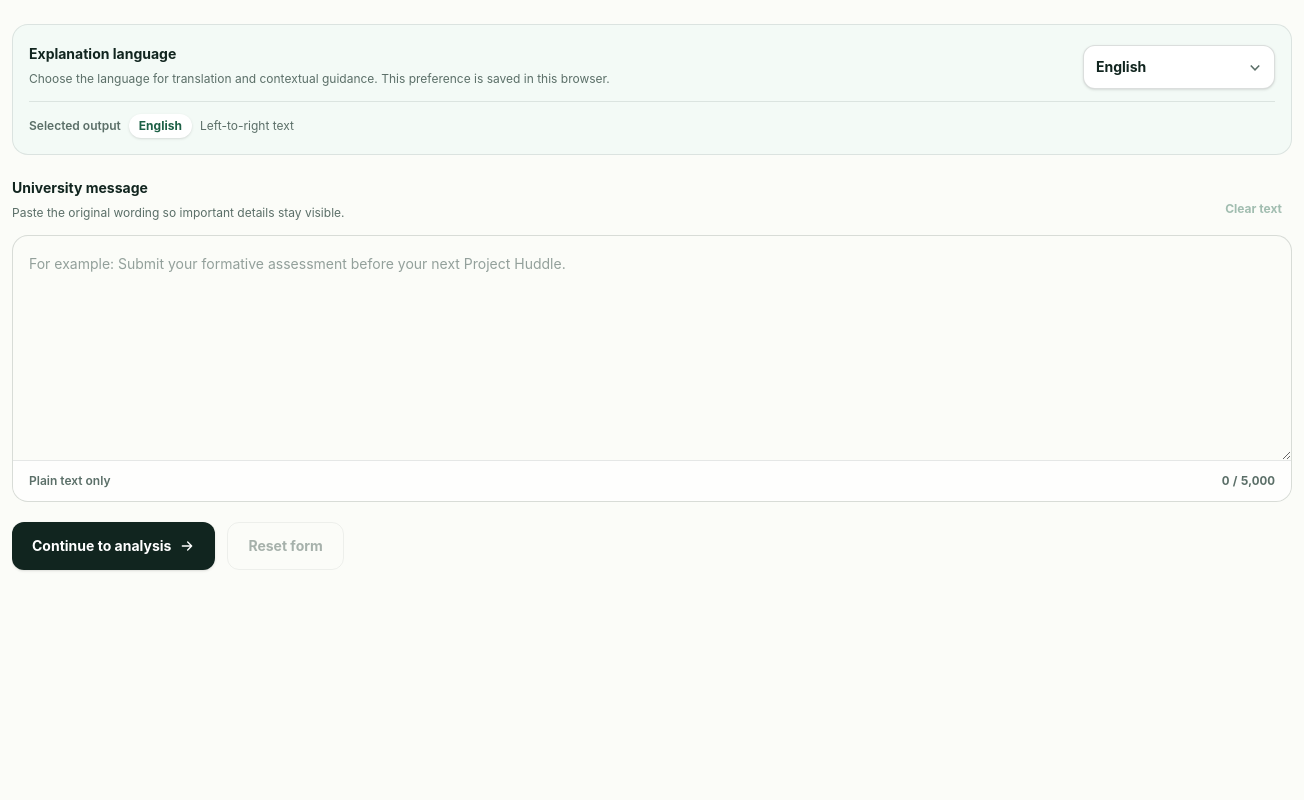
Test: MessageInputForm › resets the message and submission state
This screenshot has width=1304, height=800.
Type "Complete the task before Friday." into the text box labelled "University message" at [652, 348], box x1=13 y1=236 x2=1291 y2=460
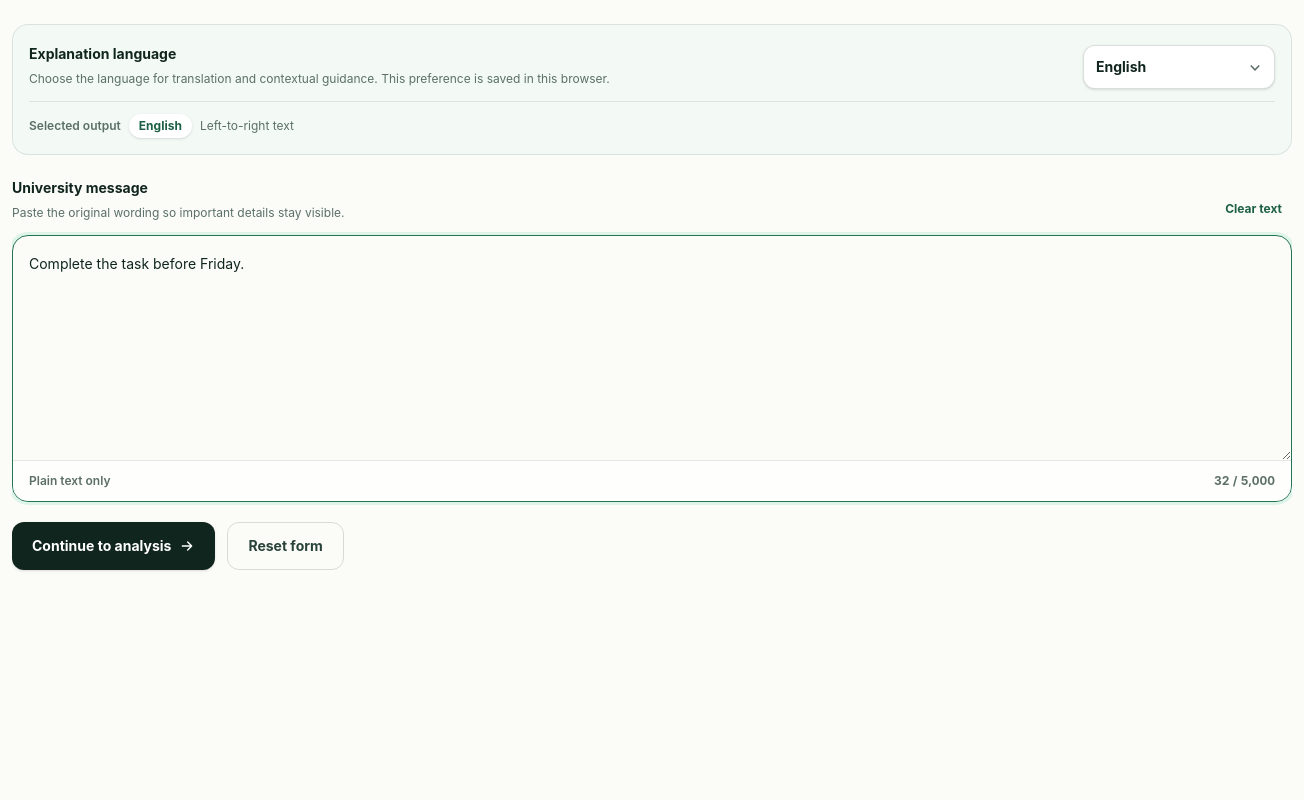
Click the button "Continue to analysis" at [114, 546], box x1=12 y1=522 x2=215 y2=570
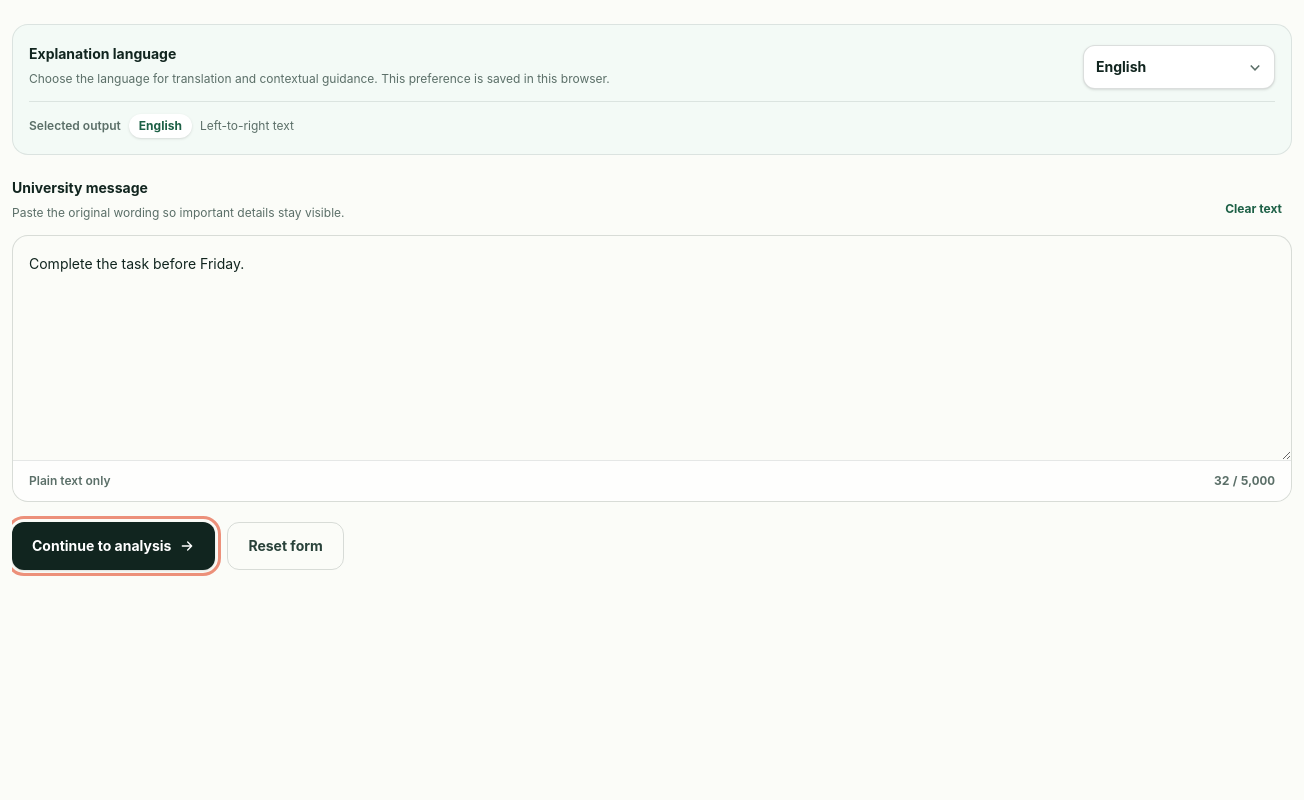
Click the button "Reset form" at [286, 546], box x1=227 y1=522 x2=344 y2=570
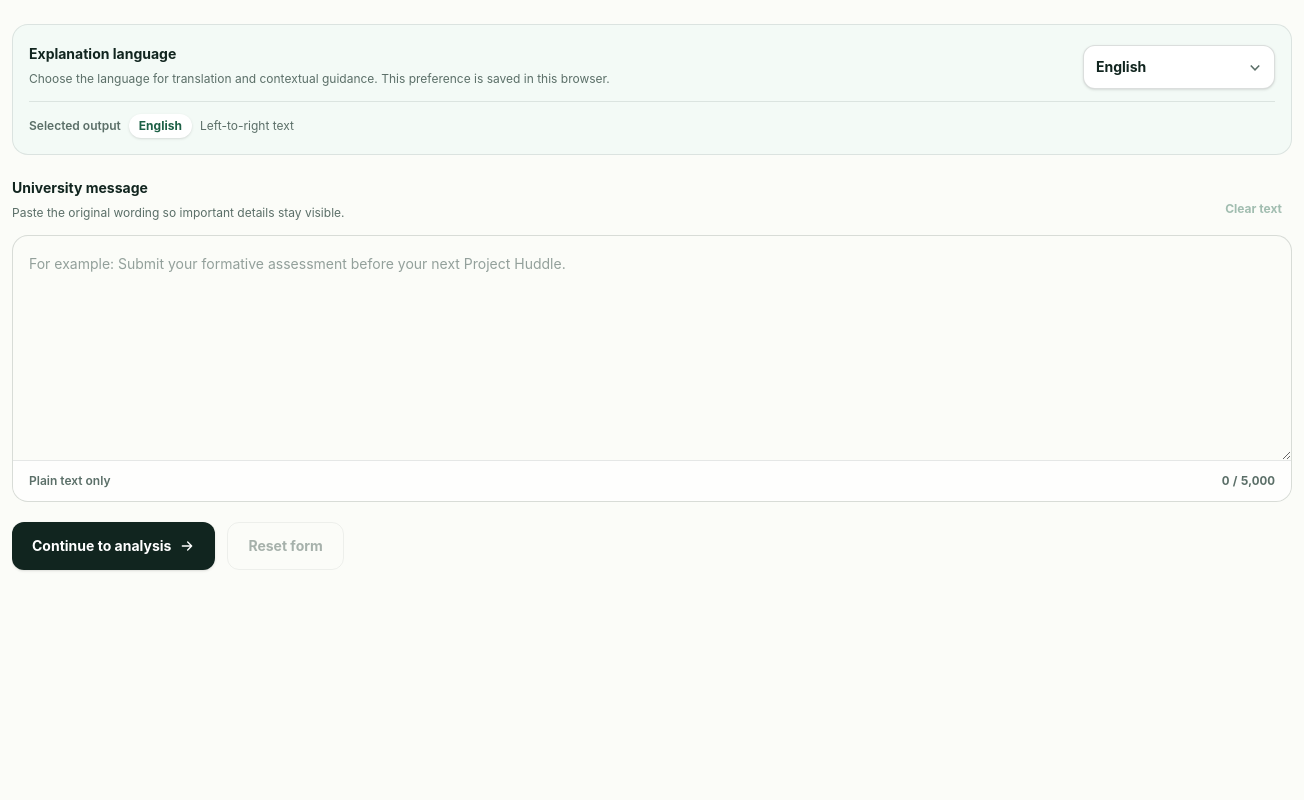
expect the text box labelled "University message" is empty: met, box x1=13 y1=236 x2=1291 y2=460
expect the text "0 / 5,000" is shown: met, box x1=1222 y1=473 x2=1275 y2=489
expect the button "Reset form" is disabled: met, box x1=227 y1=522 x2=344 y2=570
